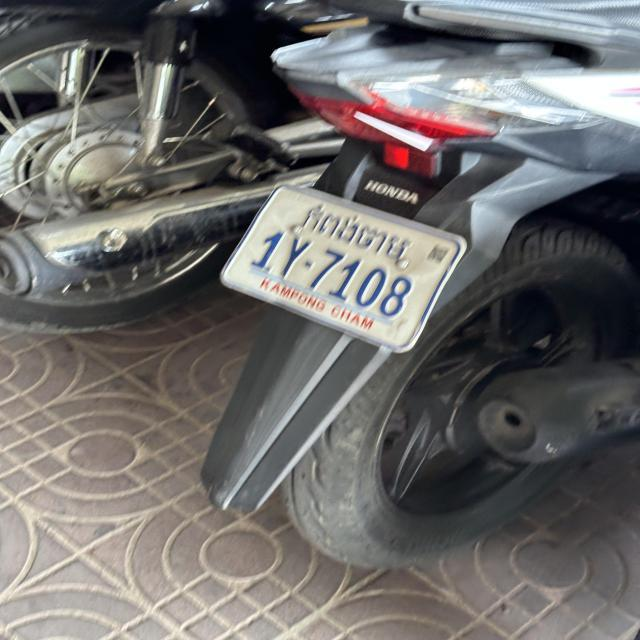Kampong_Cham: (305, 201, 415, 262)
